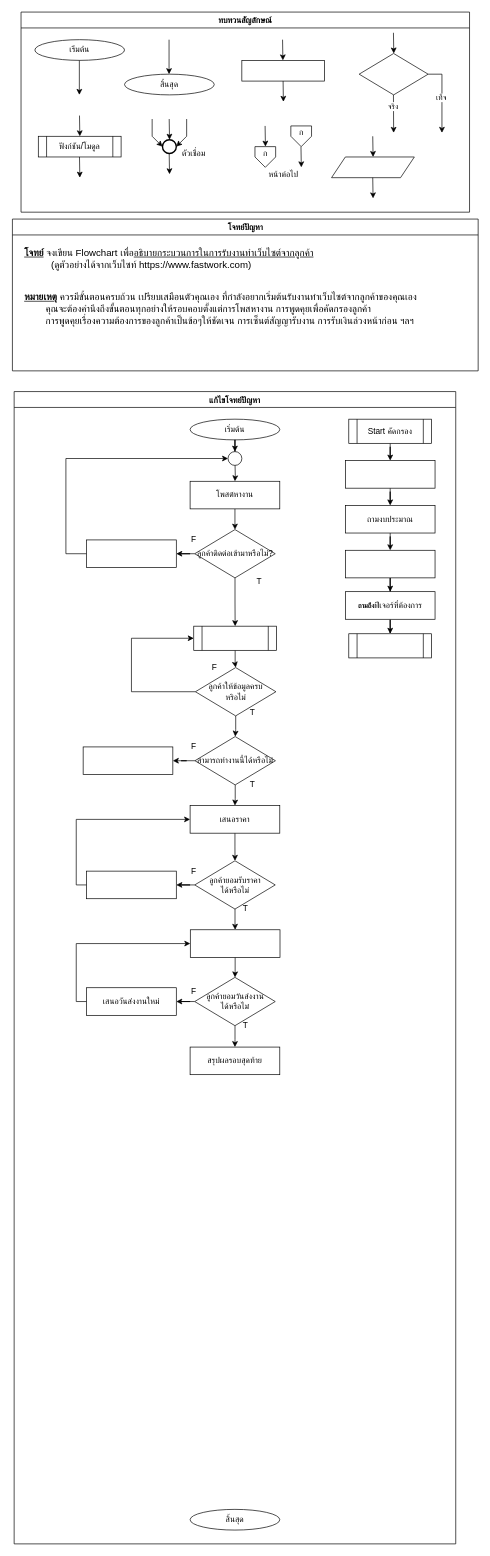
The diagram is 490 pixels wide and 1556 high, and some of its shapes have lost their labels. The shapes that lost their labels are listed below. From the top down, each one's centre as x and y in pixels, then its label:
the point at 283,70: กระบวนการ
the point at 393,74: ประโยคเงื่อนไข
the point at 372,167: แสดงผล/รับค่า
the point at 390,474: ถามประเภทเว็บไซต์
the point at 131,553: ปรับปรุงให้น่าสนใจมากขึ้น
the point at 390,564: ถามถึงระยะเวลาในการสร้าง
the point at 235,637: คัดกรอง
the point at 390,645: End คัดกรอง
the point at 127,760: แนะนำลูกค้าไปยังผู้ที่มีทักษะตรงกับงาน
the point at 131,884: เสนอราคาใหม่
the point at 235,943: เสนอวันส่งงาน
